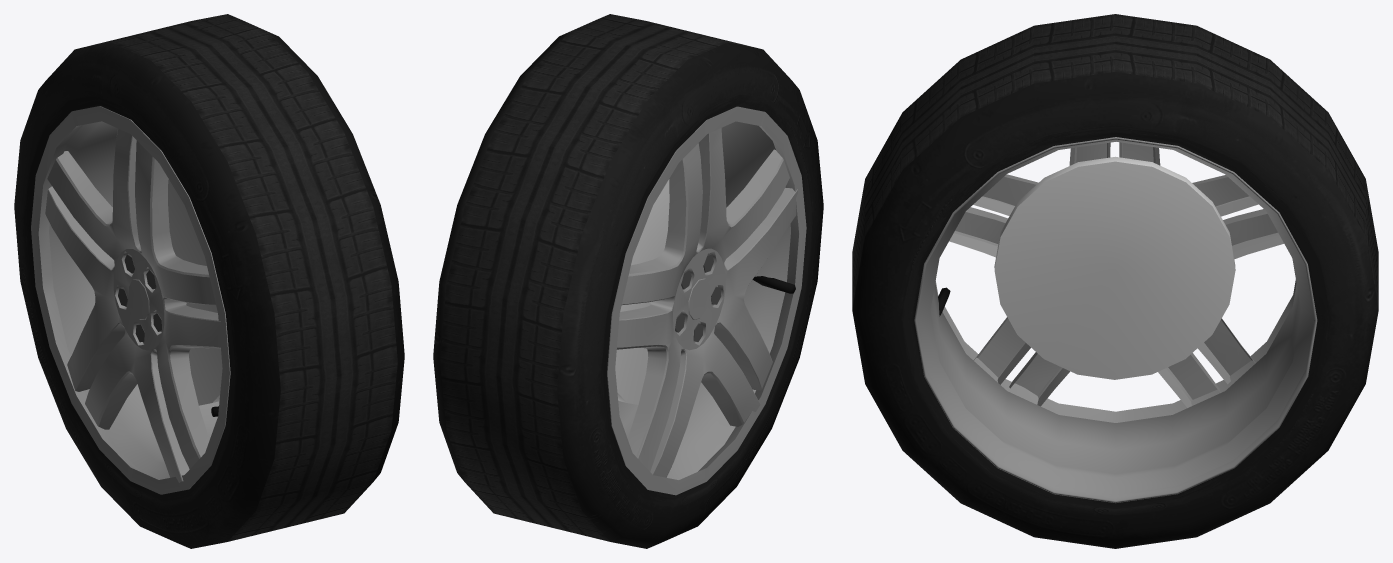
The model's file is VoltGT-prop1.dae.
3 renders of one model, left to right at view 1: azimuth 30°, elevation 25°; view 2: azimuth 150°, elevation 25°; view 3: azimuth 270°, elevation 25°, orthographic.
Parts seen in each view (by area): view 1: TIRE_Golf, RIM_Golf; view 2: TIRE_Golf, RIM_Golf; view 3: TIRE_Golf, RIM_Golf.
Boxes of the visible parts, left/top/right/bottom form: TIRE_Golf: left=14, top=14, right=404, bottom=548; RIM_Golf: left=31, top=106, right=230, bottom=494; TIRE_Golf: left=433, top=14, right=823, bottom=548; RIM_Golf: left=607, top=106, right=806, bottom=495; TIRE_Golf: left=852, top=14, right=1378, bottom=548; RIM_Golf: left=914, top=137, right=1317, bottom=503.
Bounding box in the file's own units: 0.2697 × 0.7605 × 0.7605.
